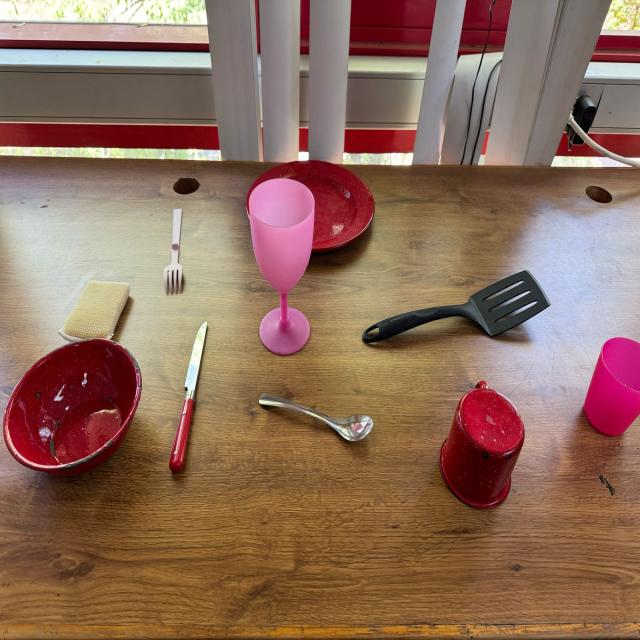cup: (438, 378, 527, 509)
fork: (162, 206, 184, 295)
glass: (583, 339, 640, 435)
knife: (167, 321, 208, 473)
plate: (246, 160, 377, 254)
spatula: (362, 267, 554, 346)
sponge: (57, 281, 132, 344)
spoon: (257, 394, 376, 444)
tazon: (4, 335, 142, 482)
wineglass: (247, 178, 317, 352)
